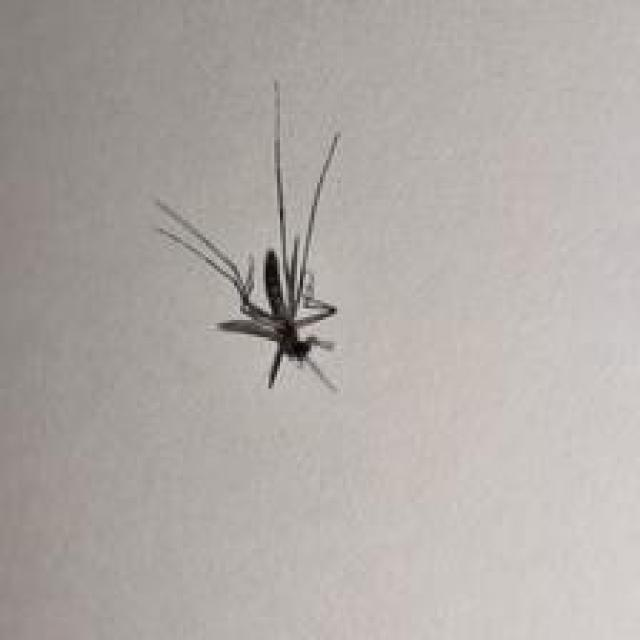Aedes albopictus: (153, 78, 344, 393)
